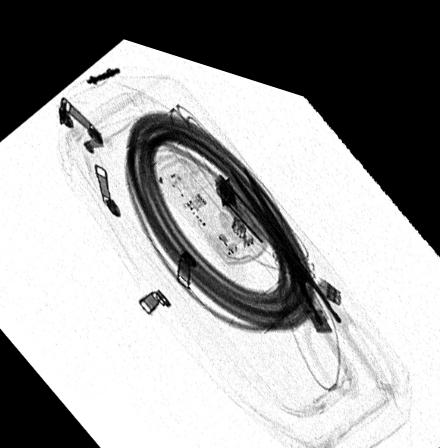Scissors: (220, 145, 403, 384)
